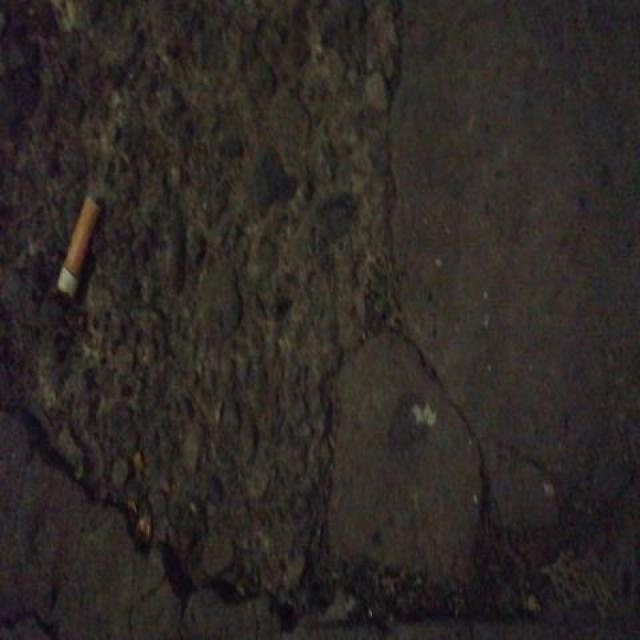non-organic waste: (53, 188, 107, 303)
